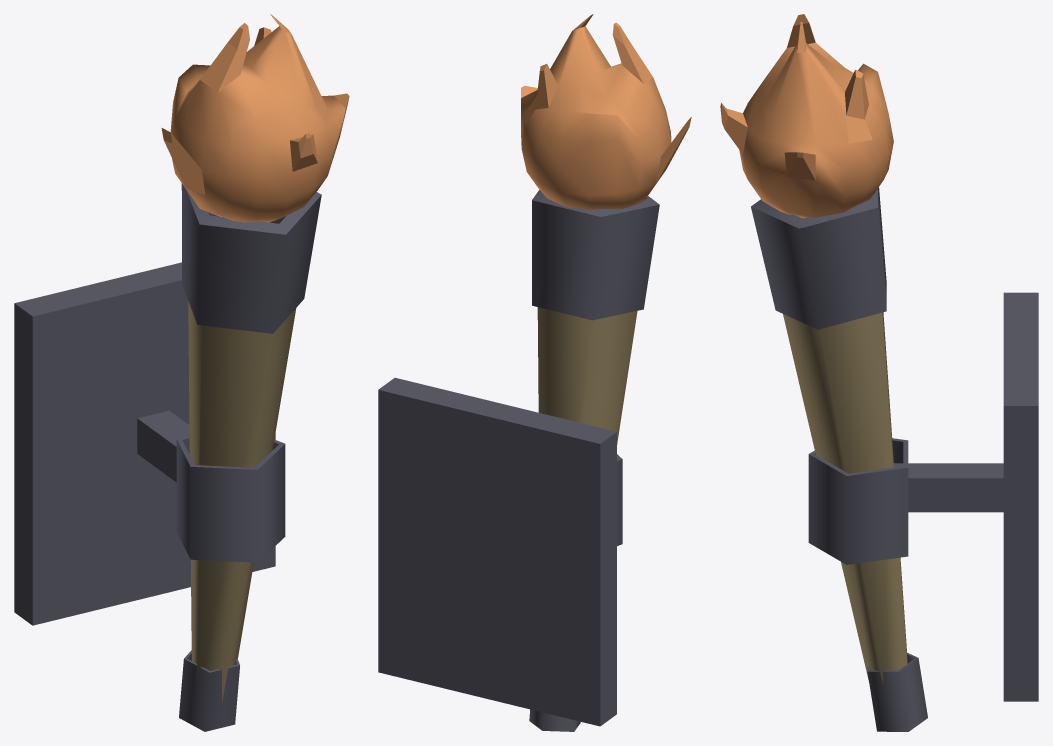
File: Torch.fbx
3 views of the same model, side by side, from view 1: azimuth 30°, elevation 25°; view 2: azimuth 150°, elevation 25°; view 3: azimuth 270°, elevation 25° (orthographic). The views are drawn at different scales.
Visible parts, largest first — view 1: Cube; view 2: Cube; view 3: Cube.
Part boxes in pixels (bbox=[...]): Cube: bbox=[14, 14, 349, 731]; Cube: bbox=[378, 14, 691, 731]; Cube: bbox=[720, 14, 1038, 731].
Size of the model in its own units: 0.1718 by 0.5 by 0.2038.
